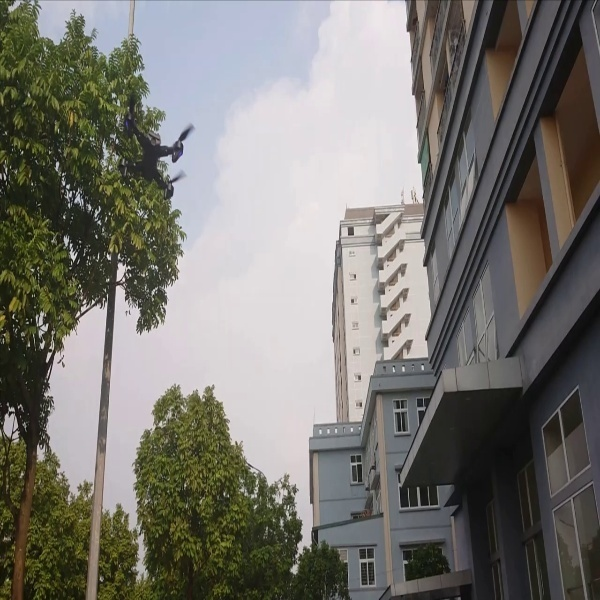drone: (107, 88, 197, 200)
